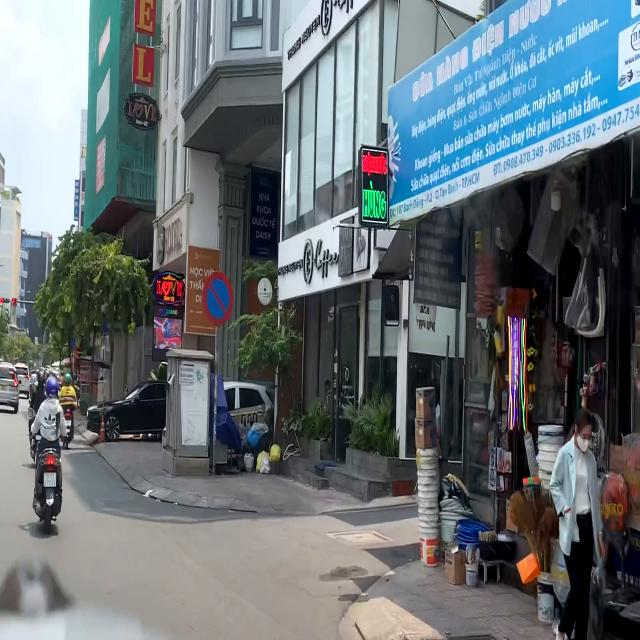P.131a: (203, 271, 234, 326)
